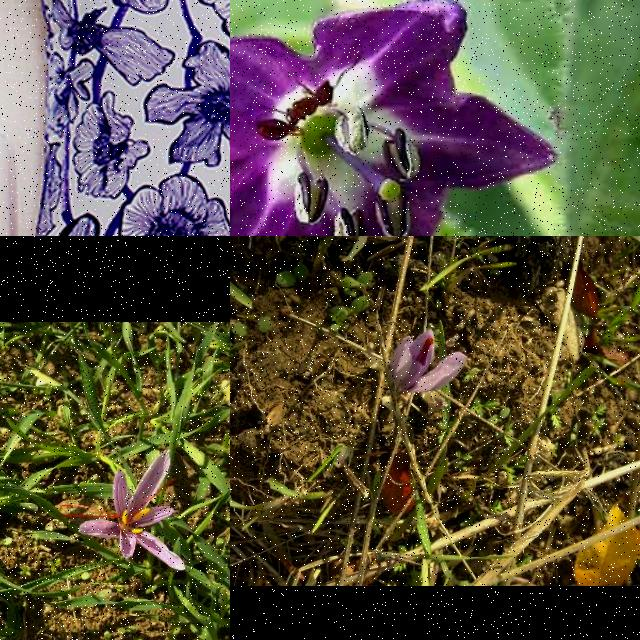flower: (78, 448, 185, 570), (389, 331, 469, 394)
